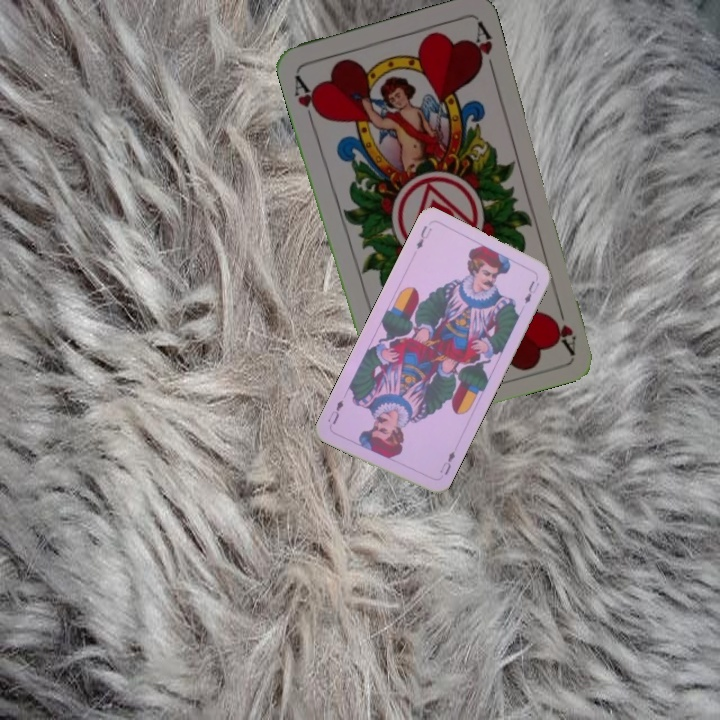EU: (412, 221, 435, 252), (435, 447, 458, 477)
HA: (545, 297, 579, 355), (290, 71, 325, 127)
